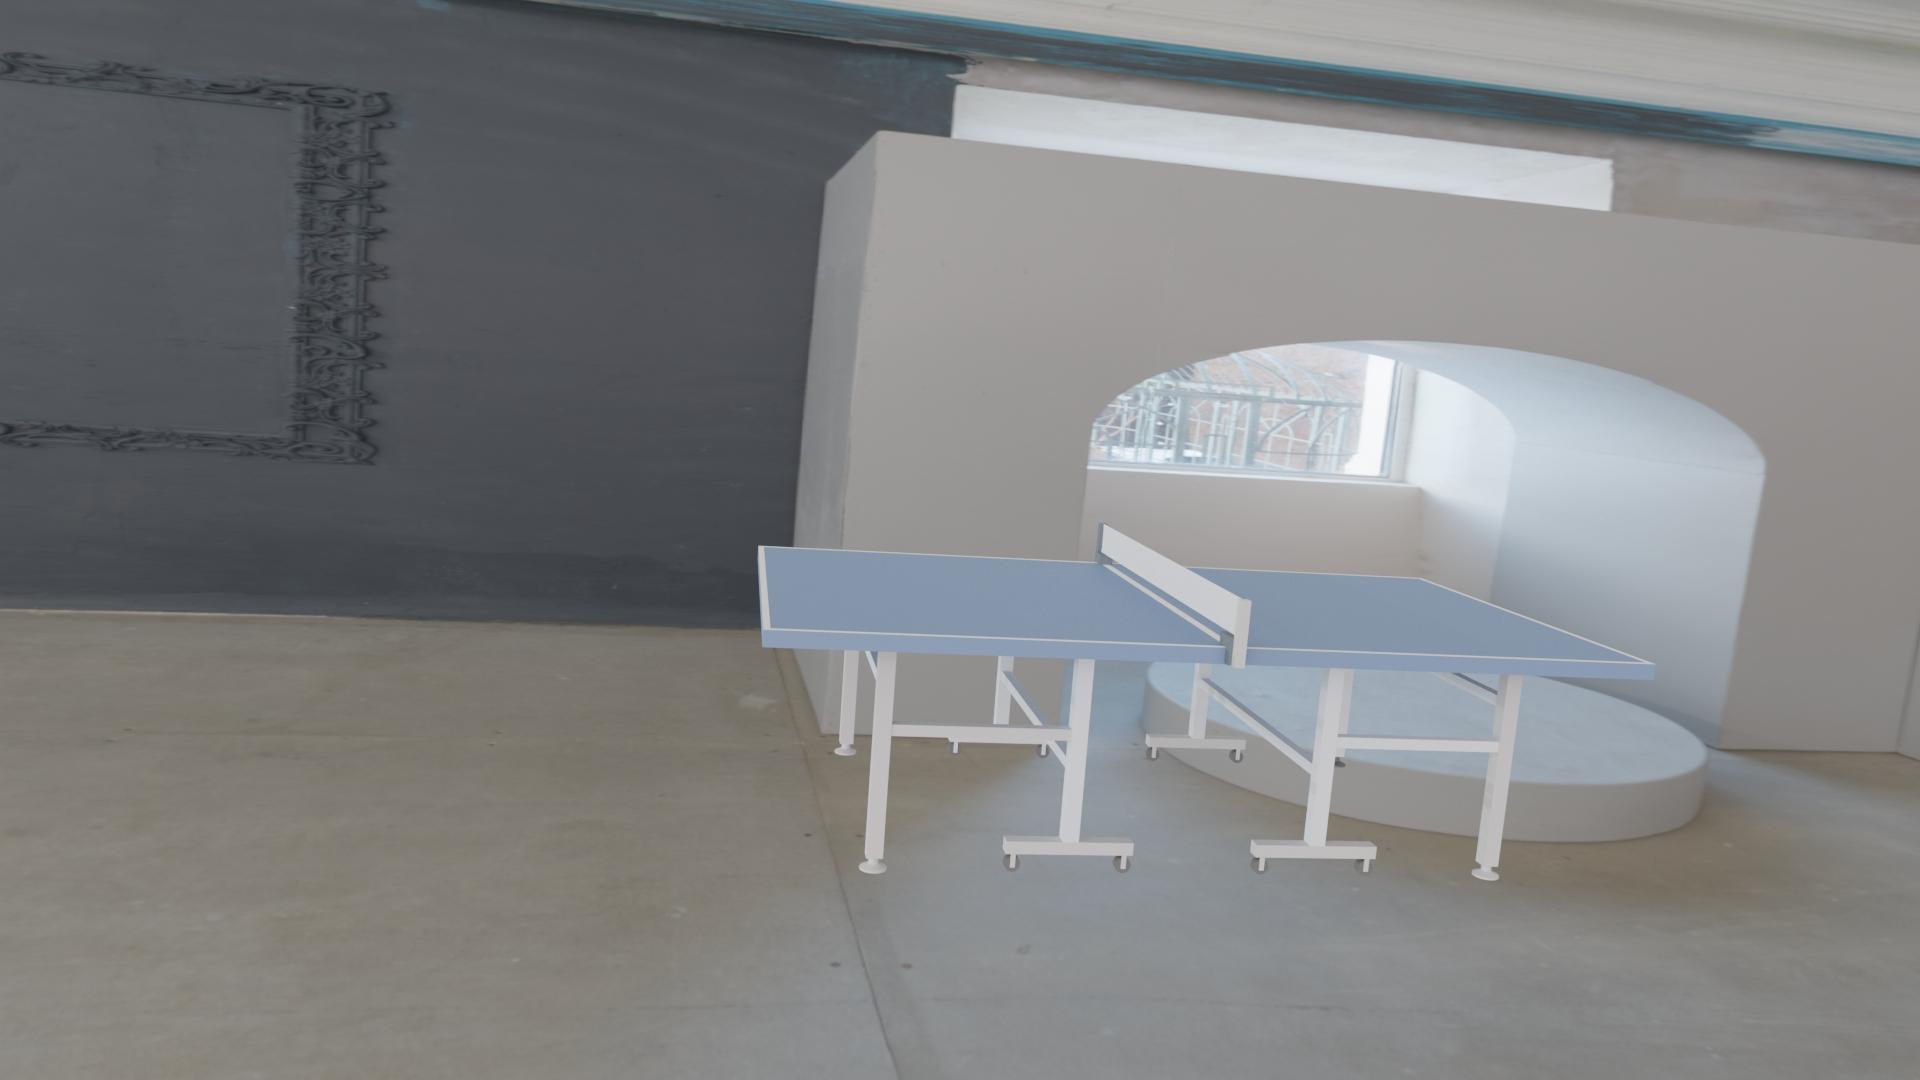table: (764, 547, 1646, 662)
